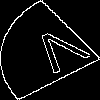V: (25, 25, 100, 82)
